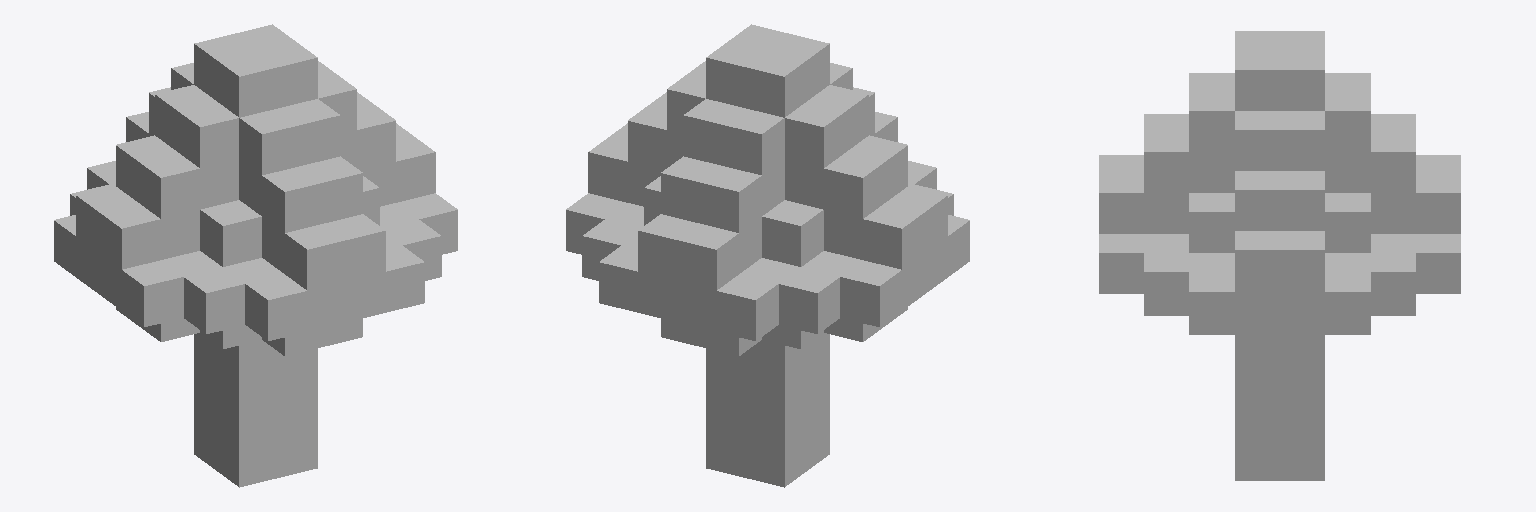
File: Mushroom.obj
3 views of the same model, side by side, from view 1: azimuth 30°, elevation 25°; view 2: azimuth 150°, elevation 25°; view 3: azimuth 270°, elevation 25° (orthographic).
Bounding box in the file's own units: 8 × 10 × 8.